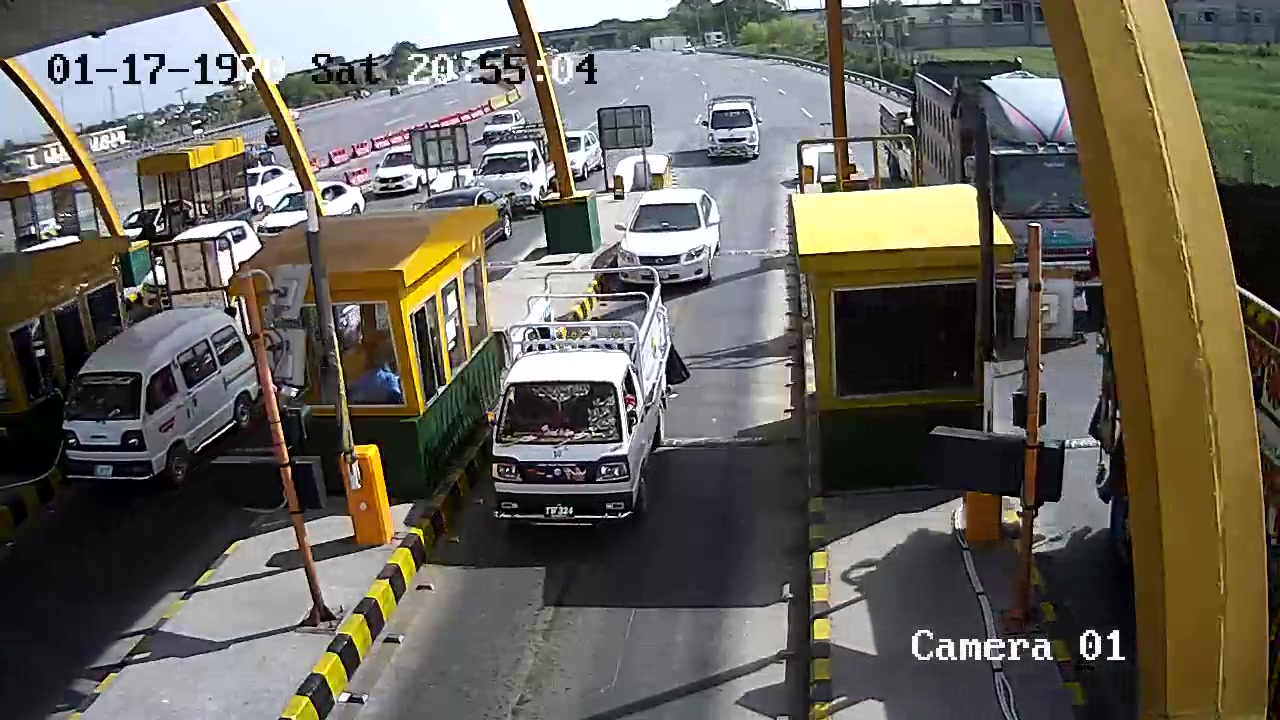F1: (484, 266, 678, 537)
